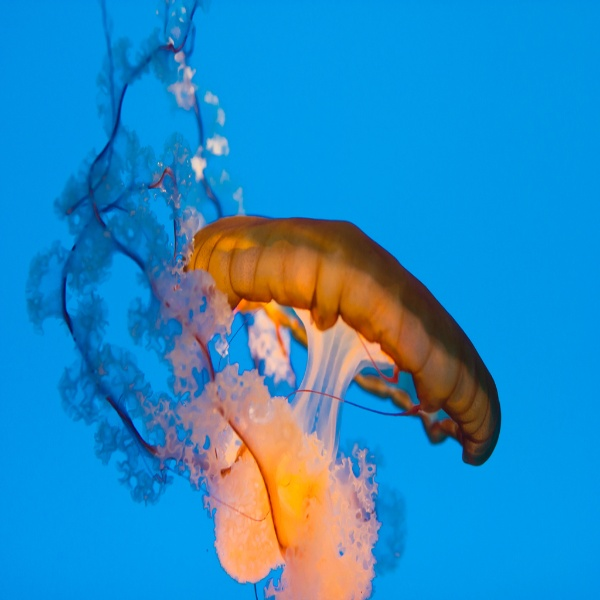Jellyfish: (22, 0, 500, 599)
